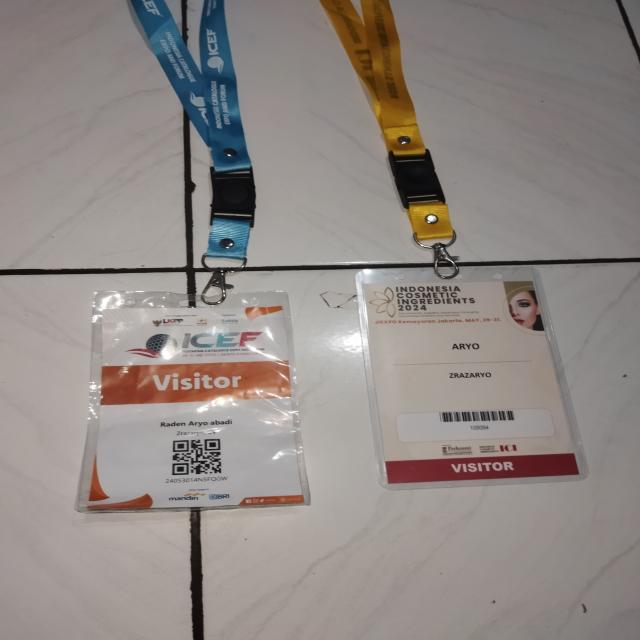ID_card: (74, 290, 310, 514), (354, 265, 588, 490)
